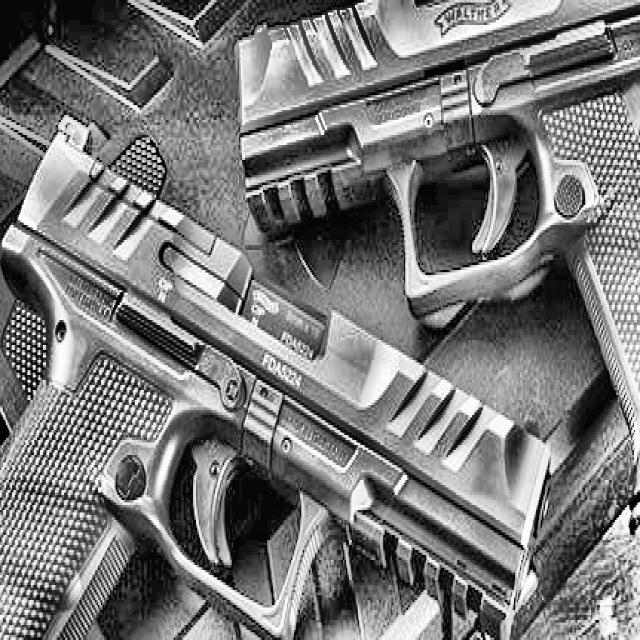Walther: (0, 105, 557, 640), (230, 0, 640, 555)
